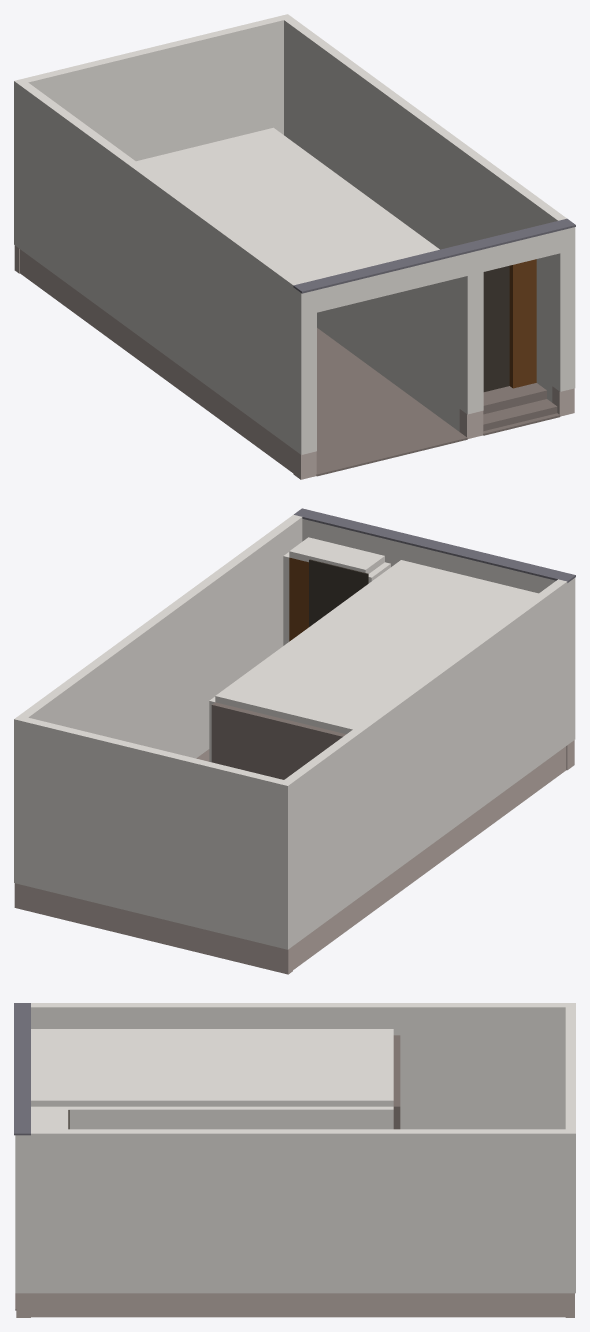
The model's file is SM_Floor_NarrowGarageWide_455_01.gltf.
3 views of the same model, one above another, from view 1: azimuth 30°, elevation 25°; view 2: azimuth 150°, elevation 25°; view 3: azimuth 270°, elevation 25° (orthographic). The views are drawn at different scales.
Visible parts, largest first — view 1: SM_Floor_NarrowGarageWide_455_01; view 2: SM_Floor_NarrowGarageWide_455_01; view 3: SM_Floor_NarrowGarageWide_455_01.
Part boxes in pixels (x1=…): SM_Floor_NarrowGarageWide_455_01: x1=14, y1=14, x2=575, y2=479; SM_Floor_NarrowGarageWide_455_01: x1=14, y1=508, x2=575, y2=974; SM_Floor_NarrowGarageWide_455_01: x1=14, y1=1003, x2=575, y2=1317.
Size of the model in its own units: 4.55 by 3 by 8.29.
Materials: 1 (1 with a texture image).
